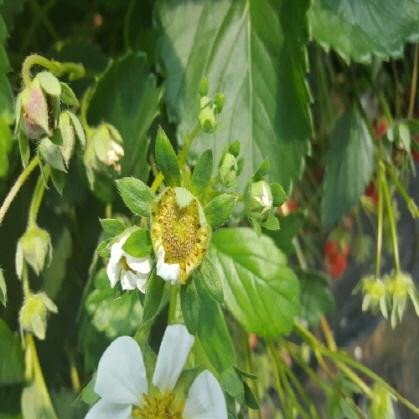Blossom Blight: (149, 187, 210, 283)
